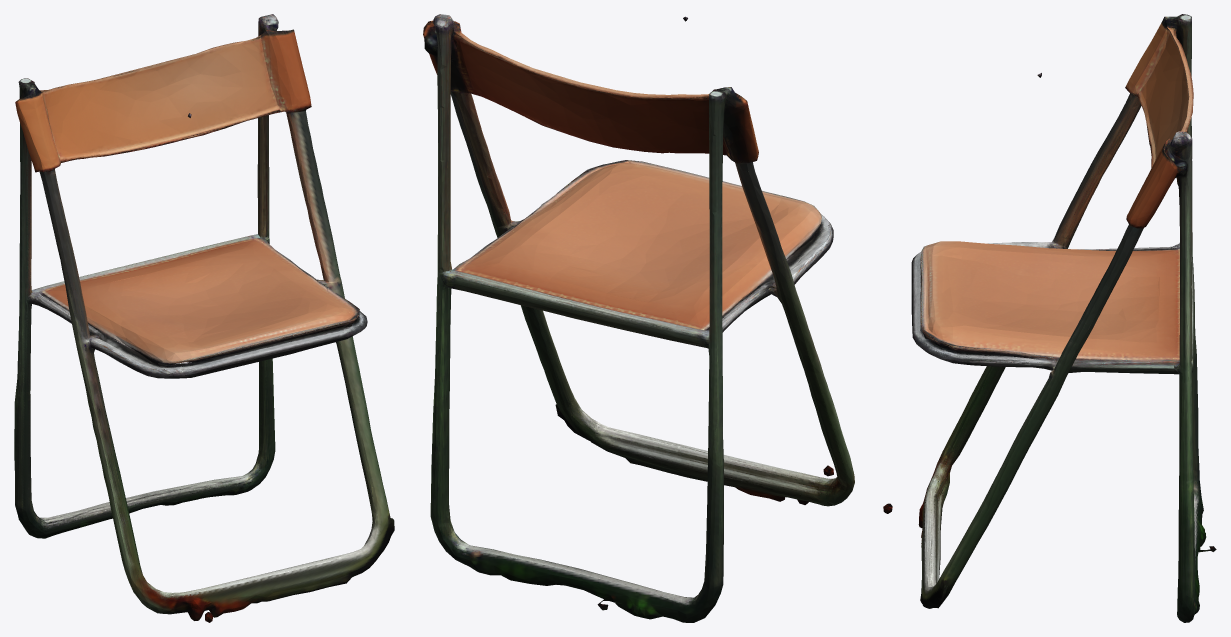
The picture shows the model from 3 angles, left to right: view 1: azimuth 30°, elevation 25°; view 2: azimuth 150°, elevation 25°; view 3: azimuth 270°, elevation 25°; orthographic projection. The views are drawn at different scales.
Visible parts, largest first — view 1: world; view 2: world; view 3: world.
Part boxes in pixels (box(x1,y1,x2,y2)): world: box(14, 14, 394, 622); world: box(423, 14, 854, 622); world: box(883, 14, 1216, 622).
Size of the model in its own units: 0.4449 by 0.7149 by 0.4314.
1 material, 1 textured.
